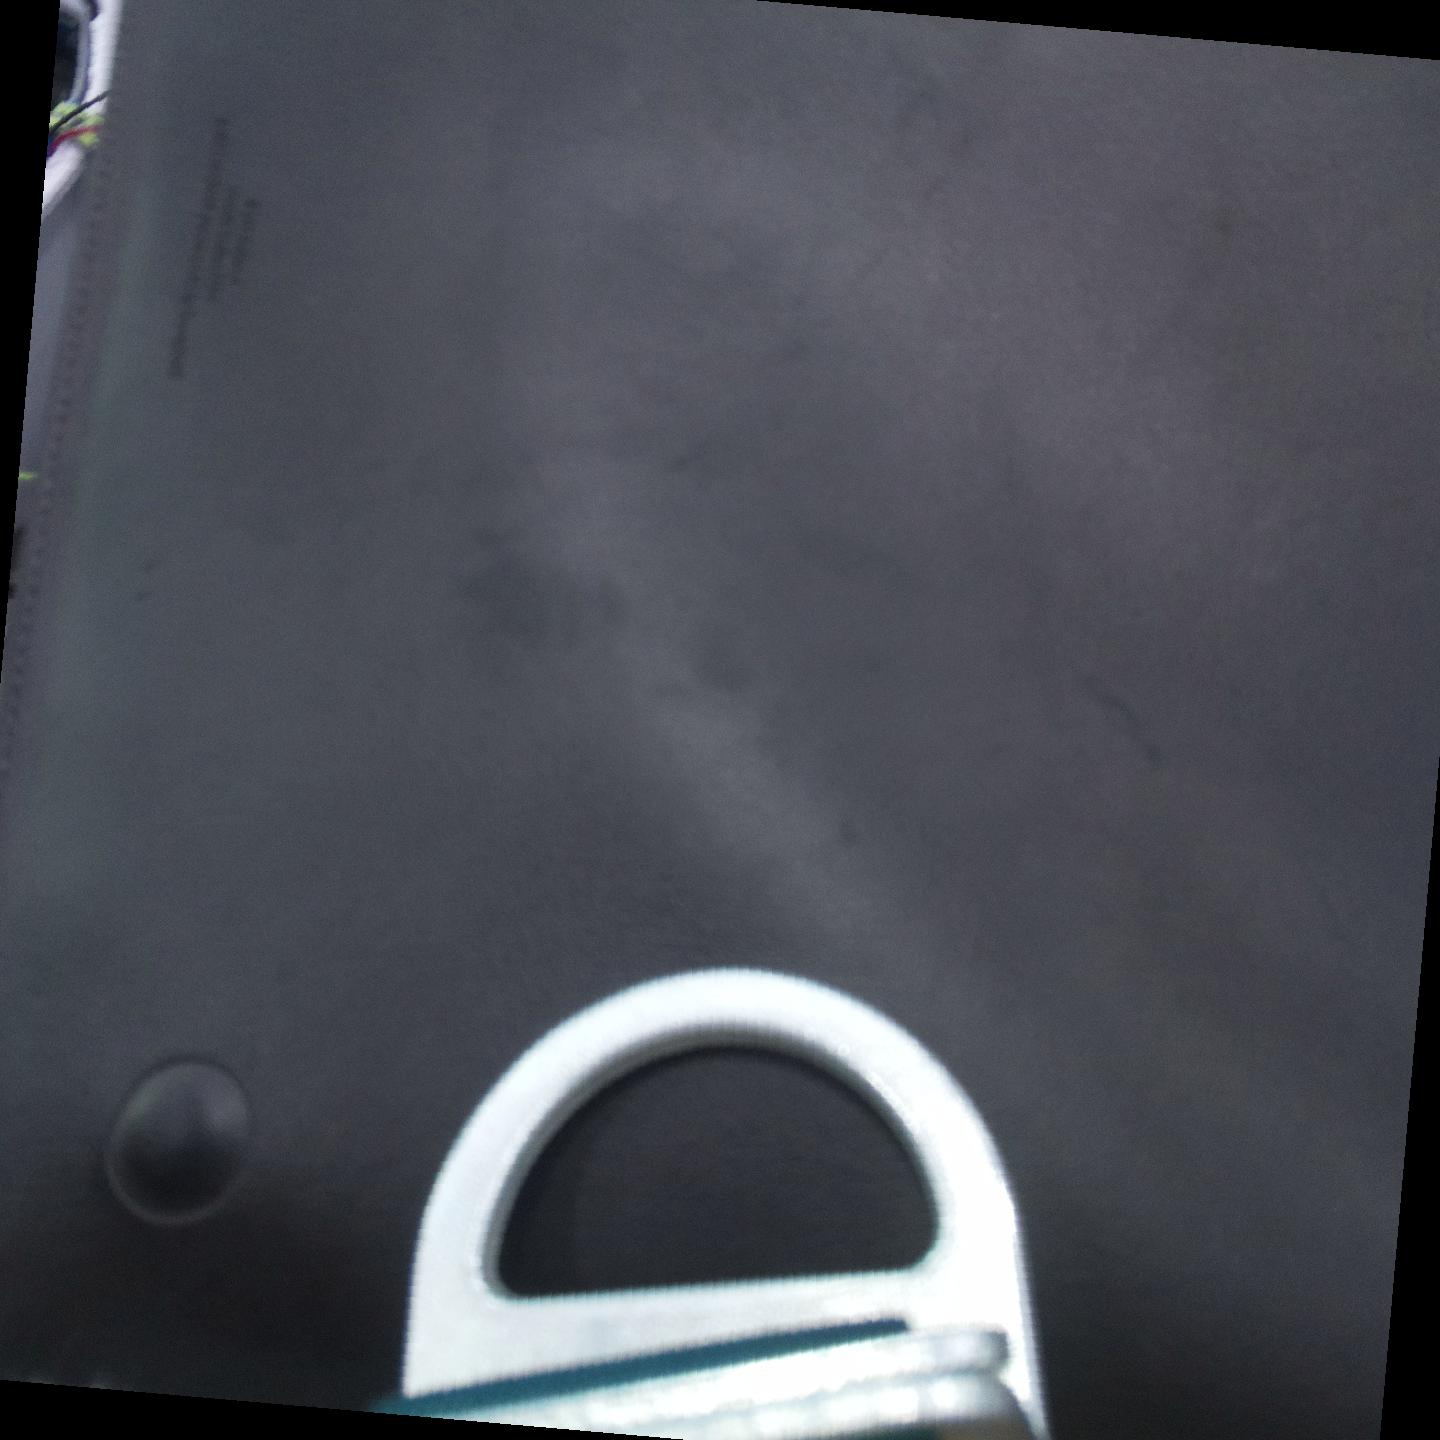UNSUCCESS: (404, 957, 1042, 1414)
